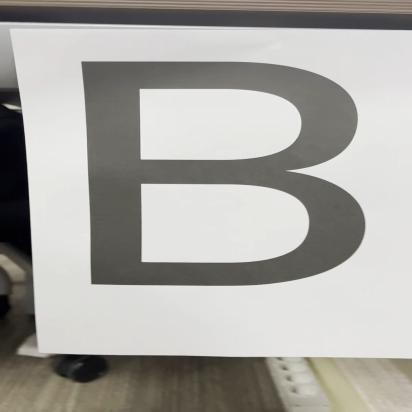seat: (54, 48, 388, 304)
